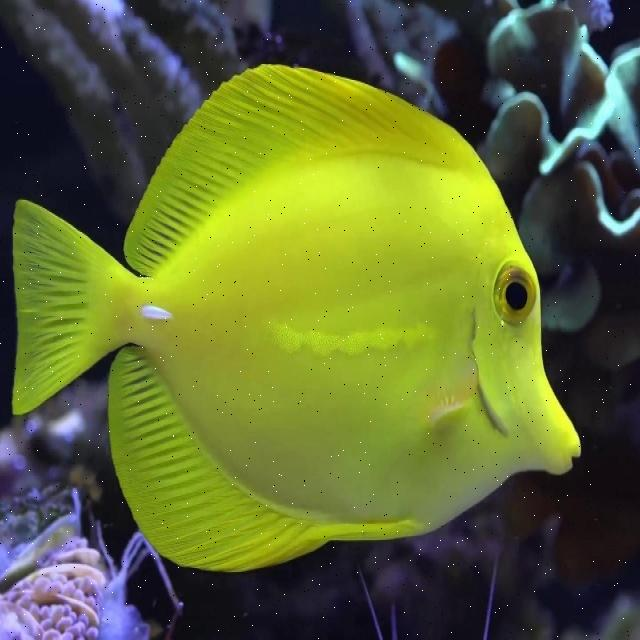fish: (13, 62, 581, 572)
